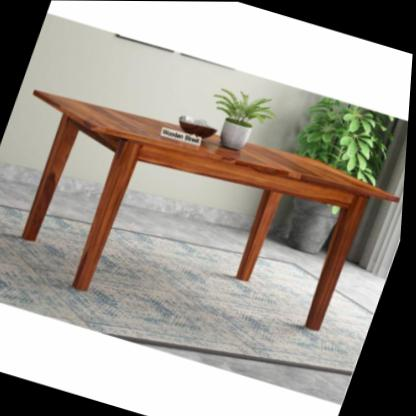Table: (0, 67, 412, 365)
